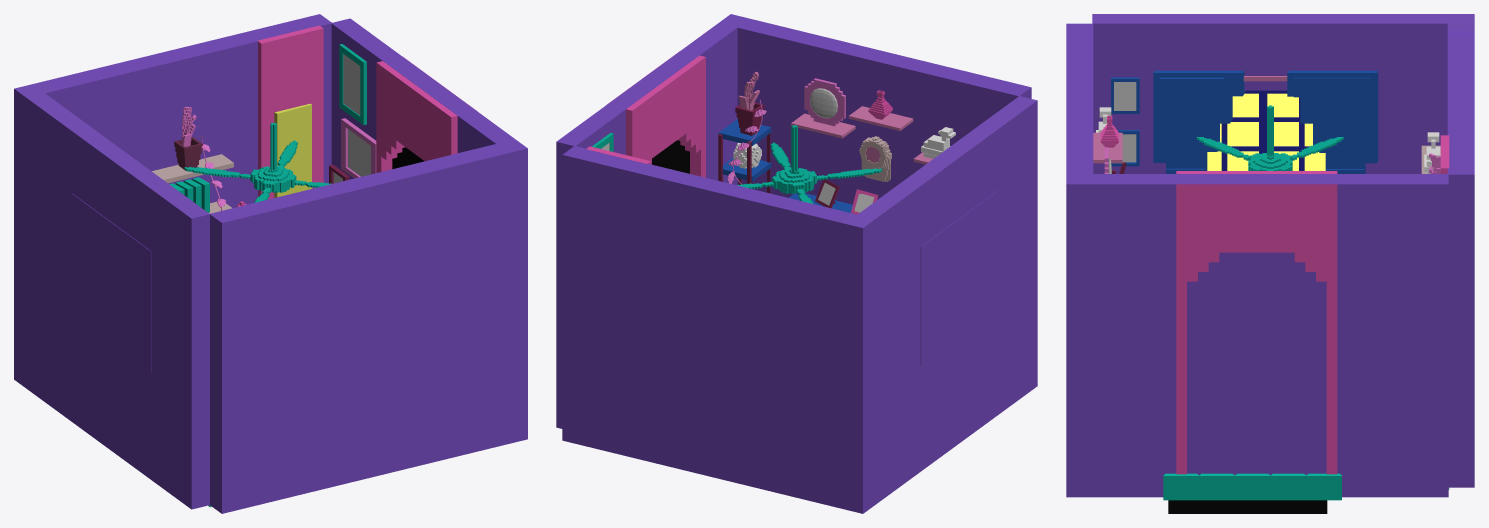
The model's file is Nivel tutorial color 2.fbx.
3 renders of one model, left to right at view 1: azimuth 30°, elevation 25°; view 2: azimuth 150°, elevation 25°; view 3: azimuth 270°, elevation 25°, orthographic. The views are drawn at different scales.
Parts seen in each view (by area): view 1: Pared base.006, Pared base.005, columna.001, marcos puertas.001, espejo.001, ventilador.001, Cuadrito.001, estanteria.001, 360_F_382903986_Wnt0Hu6JLyBI6yaf7ZUgOycQyP7kX8ru.001, Cuadrito.005, images (1).002, libro.006 (+1 smaller); view 2: Pared base.005, Pared base.006, marcos puertas.001, ventilador.001, Estanteria.001, Cube.024, reloj.001, Plane.004, Enstanteria pared.004, Enstanteria pared.003, Cube.025, Palos esatnteria.001 (+2 smaller); view 3: Pared base.006, Pared base.005, marcos puertas.001, COrtina izquierda.001, COrtina derecha.001, ventana.001, Piso living.003, Plane.004, ventilador.001, cuadrito.001, original.001, Enstanteria pared.004.
Boxes of the visible parts, x1=… form: Pared base.006: x1=210, y1=18, x2=527, y2=513; Pared base.005: x1=14, y1=14, x2=331, y2=509; columna.001: x1=257, y1=25, x2=323, y2=199; marcos puertas.001: x1=376, y1=57, x2=474, y2=172; espejo.001: x1=274, y1=103, x2=311, y2=197; ventilador.001: x1=184, y1=122, x2=331, y2=202; Cuadrito.001: x1=339, y1=44, x2=366, y2=125; estanteria.001: x1=152, y1=154, x2=233, y2=213; 360_F_382903986_Wnt0Hu6JLyBI6yaf7ZUgOycQyP7kX8ru.001: x1=343, y1=54, x2=360, y2=115; Cuadrito.005: x1=341, y1=118, x2=376, y2=178; images (1).002: x1=348, y1=129, x2=370, y2=176; libro.006: x1=169, y1=177, x2=209, y2=212; Pared base.005: x1=562, y1=96, x2=1037, y2=513; Pared base.006: x1=556, y1=14, x2=1031, y2=428; marcos puertas.001: x1=607, y1=51, x2=705, y2=177; ventilador.001: x1=737, y1=125, x2=882, y2=203; Estanteria.001: x1=718, y1=119, x2=771, y2=181; Cube.024: x1=804, y1=78, x2=845, y2=126; reloj.001: x1=859, y1=136, x2=891, y2=181; Plane.004: x1=652, y1=140, x2=689, y2=173; Enstanteria pared.004: x1=848, y1=106, x2=913, y2=130; Enstanteria pared.003: x1=791, y1=113, x2=855, y2=138; Cube.025: x1=810, y1=88, x2=837, y2=118; Palos esatnteria.001: x1=718, y1=133, x2=770, y2=193; Pared base.006: x1=1066, y1=23, x2=1448, y2=497; Pared base.005: x1=1092, y1=14, x2=1474, y2=487; marcos puertas.001: x1=1176, y1=171, x2=1337, y2=474; COrtina izquierda.001: x1=1153, y1=70, x2=1245, y2=173; COrtina derecha.001: x1=1287, y1=70, x2=1378, y2=173; ventana.001: x1=1207, y1=90, x2=1325, y2=170; Piso living.003: x1=1163, y1=473, x2=1341, y2=500; Plane.004: x1=1168, y1=500, x2=1327, y2=513; ventilador.001: x1=1197, y1=105, x2=1343, y2=170; cuadrito.001: x1=1111, y1=77, x2=1139, y2=166; original.001: x1=1114, y1=82, x2=1136, y2=110; Enstanteria pared.004: x1=1093, y1=132, x2=1122, y2=163.
Bounding box in the file's own units: 227 × 208 × 228.
